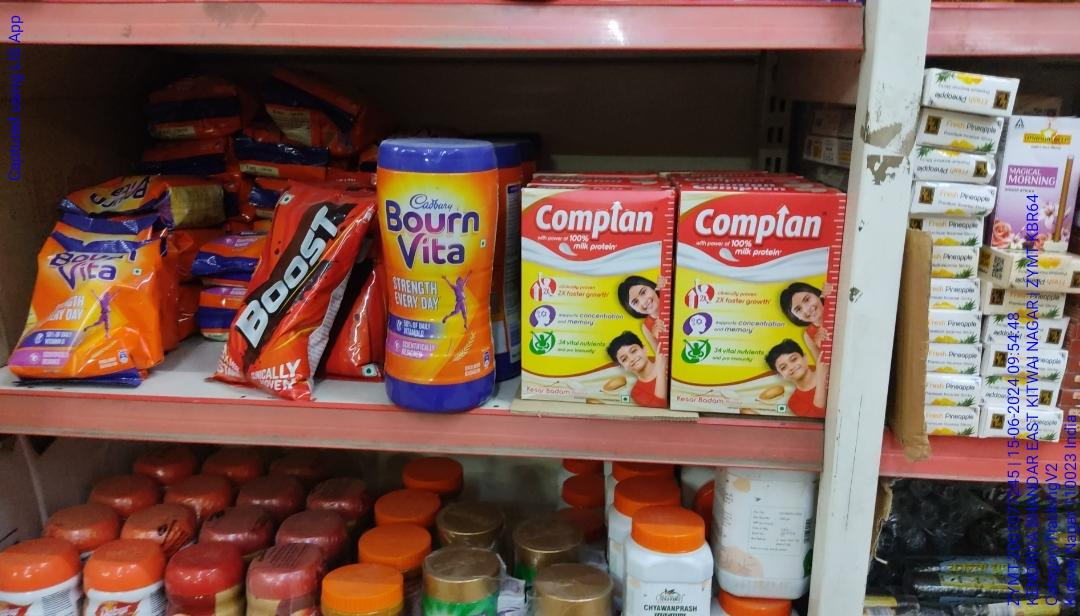BOURN_VITA_500_G_JAR: (375, 128, 499, 420)
BOURN_VITA_500_G_POUCH: (25, 228, 155, 382)
COMPLAN_KESAR_BADAM_500_GMS_PACK: (677, 187, 826, 419), (519, 184, 668, 406)
